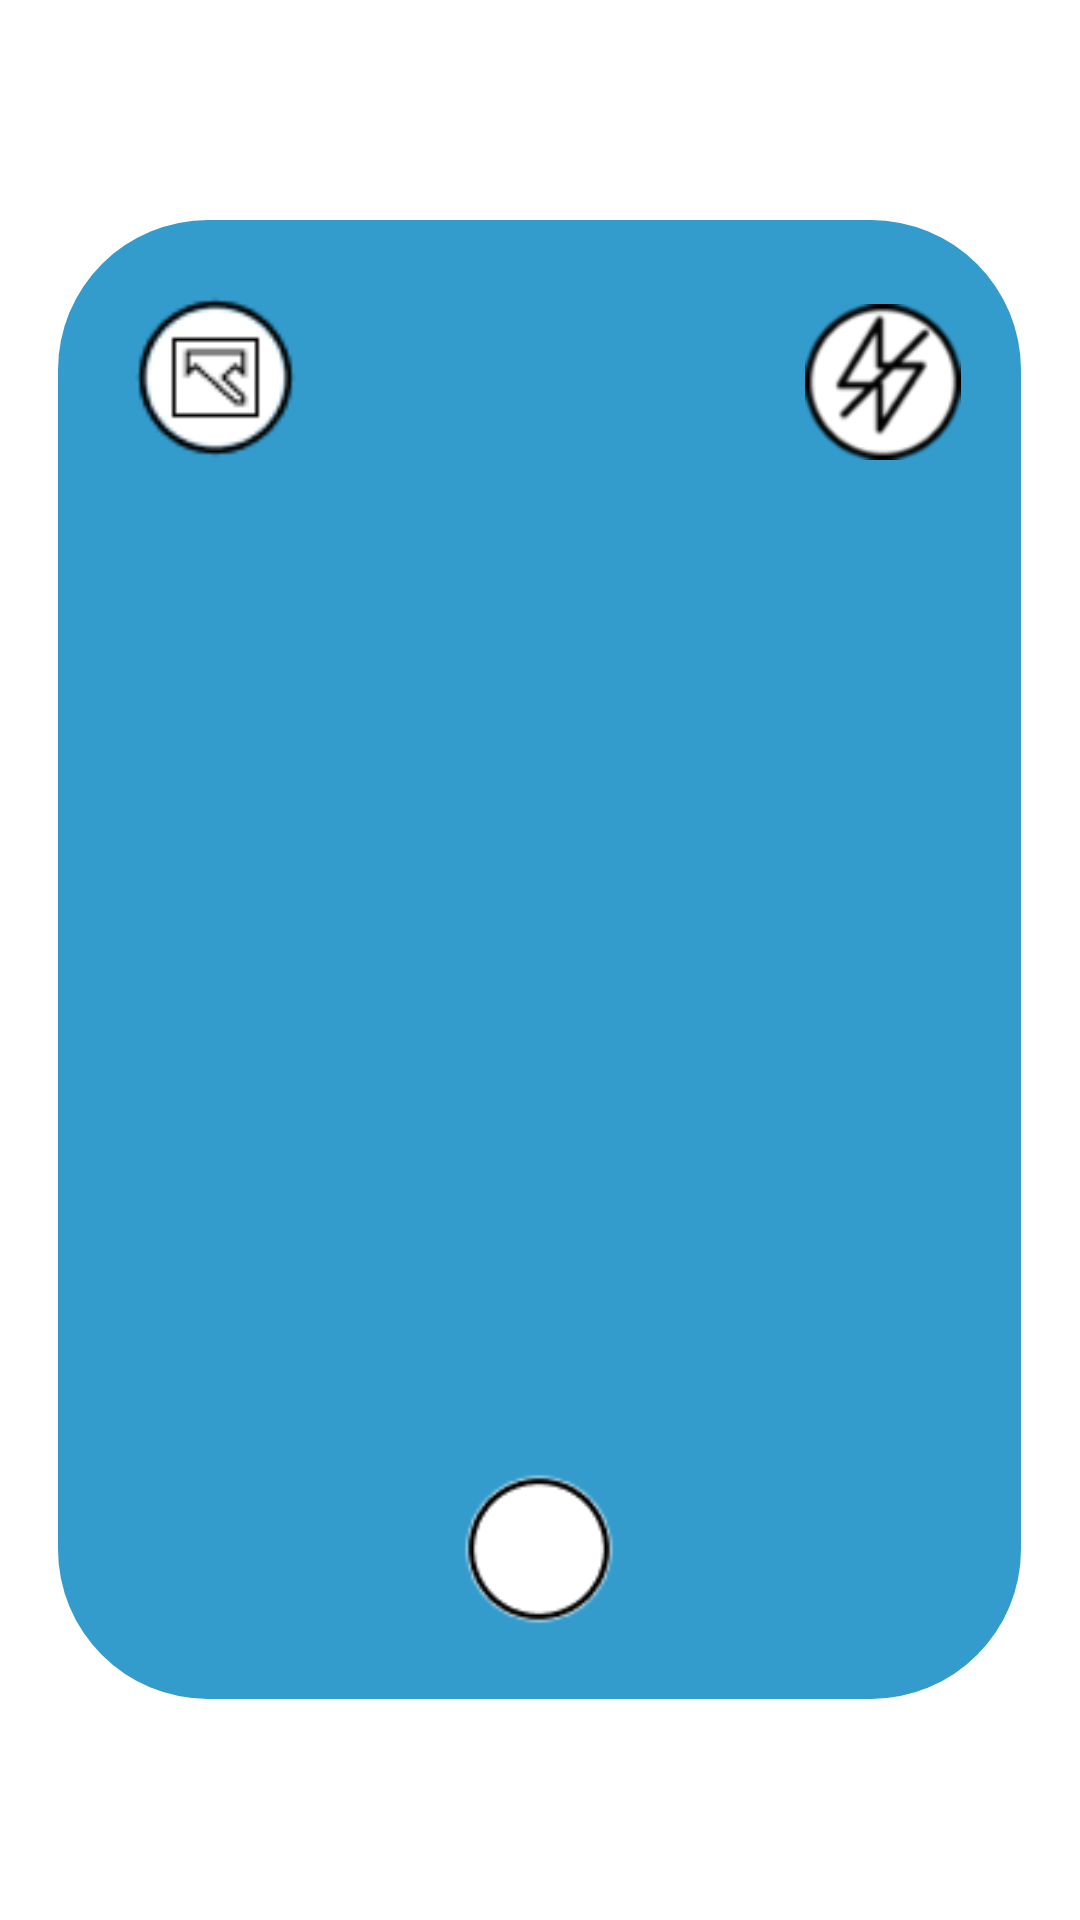

Named icons in this screenshot (1080w x 1920h) and their centers, (x,y):
gallery: (215,377)
no flash: (883,382)
